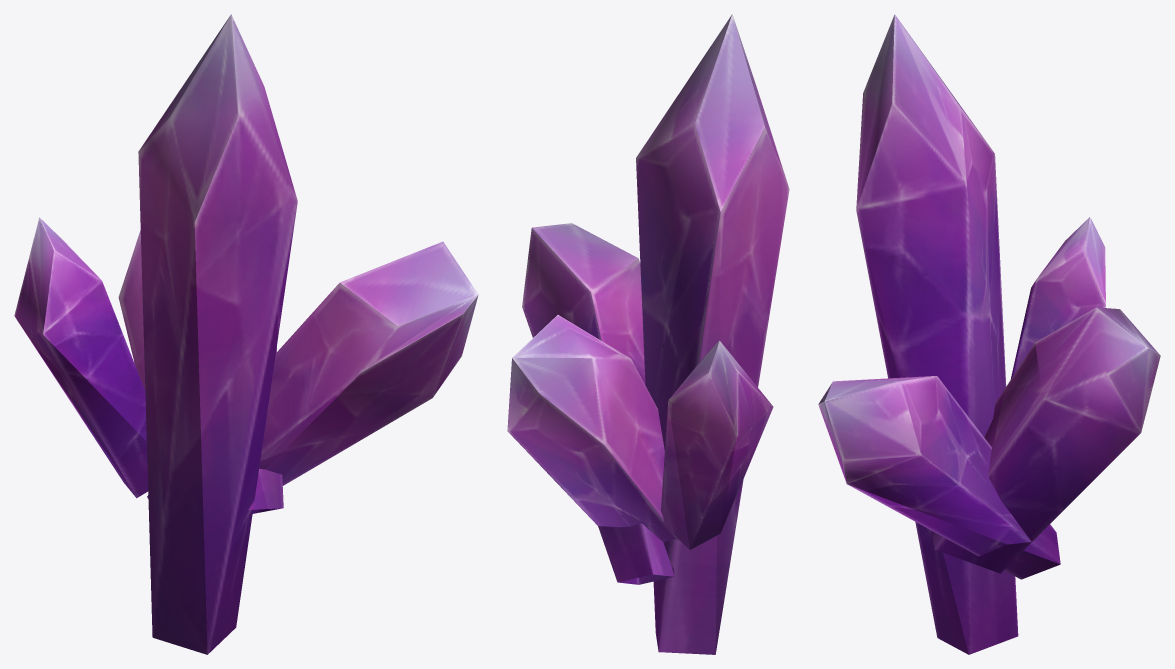
File: FB6_shuijing01.FBX
3 renders of one model, left to right at view 1: azimuth 30°, elevation 25°; view 2: azimuth 150°, elevation 25°; view 3: azimuth 270°, elevation 25°, orthographic. The views are drawn at different scales.
Parts seen in each view (by area): view 1: FB6_shuijing01_001, FB6_shuijing01_003, FB6_shuijing01_004, FB6_shuijing01_002; view 2: FB6_shuijing01_001, FB6_shuijing01_002, FB6_shuijing01_003, FB6_shuijing01_004; view 3: FB6_shuijing01_001, FB6_shuijing01_002, FB6_shuijing01_003, FB6_shuijing01_004.
Boxes of the visible parts, left/top/right/bottom form: FB6_shuijing01_001: left=138, top=14, right=297, bottom=654; FB6_shuijing01_003: left=147, top=241, right=478, bottom=499; FB6_shuijing01_004: left=14, top=217, right=148, bottom=498; FB6_shuijing01_002: left=118, top=230, right=283, bottom=513; FB6_shuijing01_001: left=636, top=14, right=789, bottom=654; FB6_shuijing01_002: left=507, top=315, right=679, bottom=542; FB6_shuijing01_003: left=522, top=223, right=674, bottom=584; FB6_shuijing01_004: left=661, top=340, right=773, bottom=549; FB6_shuijing01_001: left=856, top=14, right=1018, bottom=654; FB6_shuijing01_002: left=931, top=307, right=1160, bottom=573; FB6_shuijing01_003: left=818, top=376, right=1060, bottom=579; FB6_shuijing01_004: left=1010, top=217, right=1105, bottom=379.
Size of the model in its own units: 146 by 277 by 137.
1 material, 1 textured.
